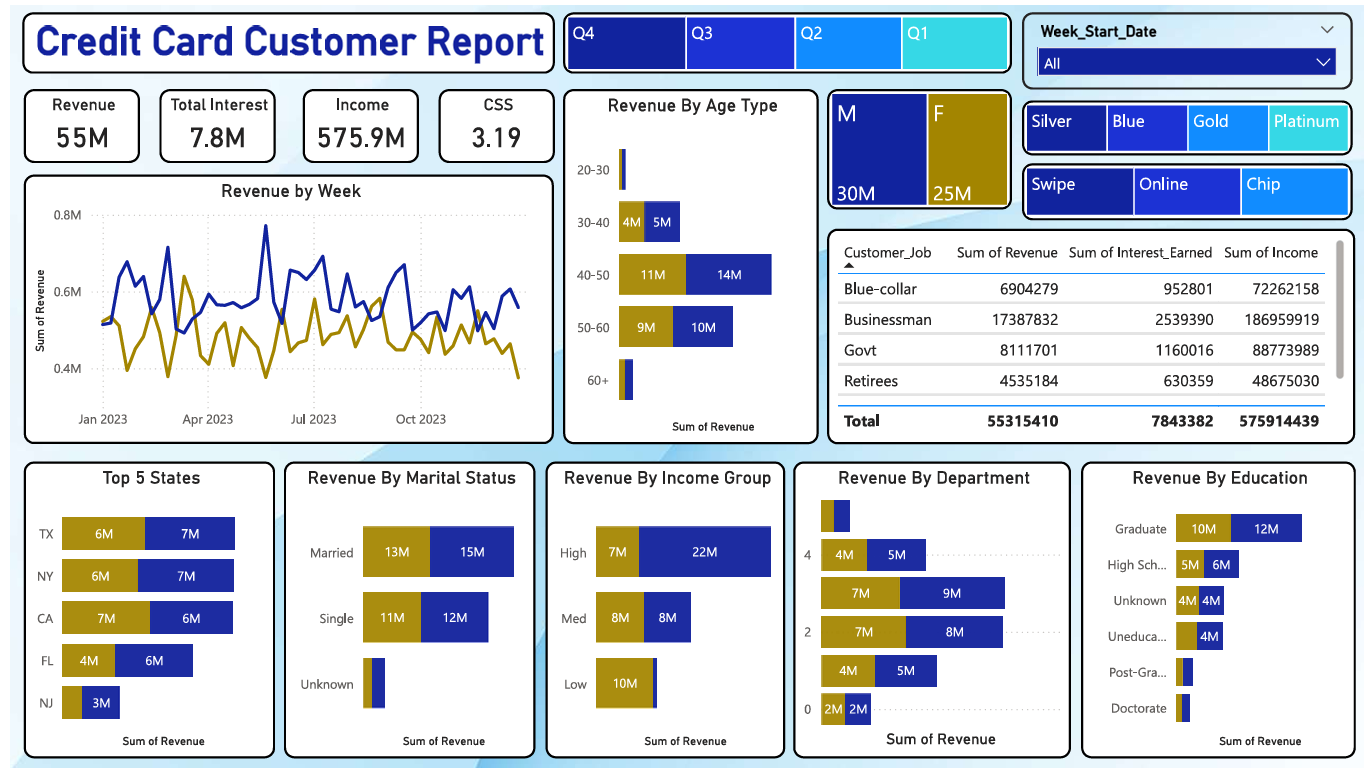

The page's visual inventory and layout, read from the dashboard file:
{"tool":"powerbi","page":{"name":"CC Customer","canvas":[1280,720],"ordinal":2},"visuals":[{"type":"barChart","title":"Revenue By Expeenditure Type","fields":{"Y":["Sum(ccdb credit_card.Revenue)"],"Category":["ccdb customer.IncomeGroup"],"Series":["ccdb customer.Gender"]},"box":[506,431,227.4,281],"z":0},{"type":"tableEx","fields":{"Values":["ccdb customer.Customer_Job","Sum(ccdb credit_card.Revenue)","Sum(ccdb credit_card.Interest_Earned)","Sum(ccdb customer.Income)"]},"box":[845.2,210.7,427.4,211.9],"z":1000},{"type":"card","title":"Revenue ","fields":{"Values":["Sum(ccdb credit_card.Revenue)"]},"box":[11.9,78.6,110,70.2],"z":2000},{"type":"card","title":"Total Interest","fields":{"Values":["Sum(ccdb credit_card.Interest_Earned)"]},"box":[140.5,78.6,109.5,70.2],"z":3000},{"type":"card","title":"Income","fields":{"Values":["Sum(ccdb customer.Income)"]},"box":[276.2,78.6,109.5,70.2],"z":4000},{"type":"card","title":"CSS","fields":{"Values":["Avg(ccdb customer.Cust_Satisfaction_Score)"]},"box":[404.8,78.6,109.5,70.2],"z":5000},{"type":"slicer","fields":{"Values":["ccdb credit_card.Week_Start_Date"]},"box":[1022.6,6,247.6,77.4],"z":6000},{"type":"treemap","fields":{"Group":["ccdb credit_card.Qtr"],"Values":["Avg(ccdb credit_card.Client_Num)"]},"box":[532.1,6,481,58.3],"z":7000},{"type":"treemap","fields":{"Group":["ccdb credit_card.Card_Category"],"Values":["Avg(ccdb credit_card.Client_Num)"]},"box":[1022.6,96.4,247.6,45.2],"z":8000},{"type":"textbox","title":"Credit  Card     Customer Report","box":[10.7,6,503.6,58.3],"z":9000},{"type":"lineChart","title":"Revenue by Week","fields":{"Y":["Sum(ccdb credit_card.Revenue)"],"Series":["ccdb customer.Gender"],"Category":["ccdb credit_card.Week_Start_Date.Variation.Date Hierarchy.Year","ccdb credit_card.Week_Start_Date.Variation.Date Hierarchy.Month","ccdb credit_card.Week_Start_Date.Variation.Date Hierarchy.Day"]},"box":[11.9,159.5,502.4,231],"z":10000},{"type":"treemap","fields":{"Group":["ccdb customer.Gender"],"Values":["Sum(ccdb credit_card.Revenue)"]},"box":[858.3,78.6,154.8,81],"z":11000},{"type":"barChart","title":"Revenue By Expeenditure Type","fields":{"Y":["Sum(ccdb credit_card.Revenue)"],"Category":["ccdb customer.AgeGroup"],"Series":["ccdb customer.Gender"]},"box":[522.6,78.6,314.3,311.9],"z":12000},{"type":"barChart","title":"Revenue By Expeenditure Type","fields":{"Y":["Sum(ccdb credit_card.Revenue)"],"Category":["ccdb customer.Education_Level"],"Series":["ccdb customer.Gender"]},"box":[1013.1,431,259.5,281],"z":13000},{"type":"barChart","title":"Revenue By Expeenditure Type","fields":{"Y":["Sum(ccdb credit_card.Revenue)"],"Category":["ccdb customer.Dependent_Count"],"Series":["ccdb customer.Gender"]},"box":[752.4,431,247.6,281],"z":14000},{"type":"barChart","title":"Revenue By Expeenditure Type","fields":{"Y":["Sum(ccdb credit_card.Revenue)"],"Category":["ccdb customer.state_cd"],"Series":["ccdb customer.Gender"]},"box":[11.9,431,238.1,281],"z":15000},{"type":"barChart","title":"Revenue By Expeenditure Type","fields":{"Y":["Sum(ccdb credit_card.Revenue)"],"Category":["ccdb customer.Marital_Status"],"Series":["ccdb customer.Gender"]},"box":[258.3,431,238.1,281],"z":16000},{"type":"treemap","fields":{"Group":["ccdb credit_card.Use Chip"],"Values":["Avg(ccdb credit_card.Client_Num)"]},"box":[1022.6,148.8,247.6,48.8],"z":17000}]}

Visuals, with their boxes in screenshot pixels (x1, y1, x2, y2), scaled from the page's 1280x720 canvas onto the 1367x771 screenshot:
"Revenue By Expeenditure Type" barChart: pyautogui.locateOnScreen(540, 462, 783, 762)
tableEx - ccdb customer.Customer_Job x Sum(ccdb credit_card.Revenue): pyautogui.locateOnScreen(903, 226, 1359, 453)
"Revenue " card: pyautogui.locateOnScreen(13, 84, 130, 159)
"Total Interest" card: pyautogui.locateOnScreen(150, 84, 267, 159)
"Income" card: pyautogui.locateOnScreen(295, 84, 412, 159)
"CSS" card: pyautogui.locateOnScreen(432, 84, 549, 159)
slicer - ccdb credit_card.Week_Start_Date: pyautogui.locateOnScreen(1092, 6, 1357, 89)
treemap - ccdb credit_card.Qtr x Avg(ccdb credit_card.Client_Num): pyautogui.locateOnScreen(568, 6, 1082, 69)
treemap - ccdb credit_card.Card_Category x Avg(ccdb credit_card.Client_Num): pyautogui.locateOnScreen(1092, 103, 1357, 152)
"Credit  Card     Customer Report" textbox: pyautogui.locateOnScreen(11, 6, 549, 69)
"Revenue by Week" lineChart: pyautogui.locateOnScreen(13, 171, 549, 418)
treemap - ccdb customer.Gender x Sum(ccdb credit_card.Revenue): pyautogui.locateOnScreen(917, 84, 1082, 171)
"Revenue By Expeenditure Type" barChart: pyautogui.locateOnScreen(558, 84, 894, 418)
"Revenue By Expeenditure Type" barChart: pyautogui.locateOnScreen(1082, 462, 1359, 762)
"Revenue By Expeenditure Type" barChart: pyautogui.locateOnScreen(804, 462, 1068, 762)
"Revenue By Expeenditure Type" barChart: pyautogui.locateOnScreen(13, 462, 267, 762)
"Revenue By Expeenditure Type" barChart: pyautogui.locateOnScreen(276, 462, 530, 762)
treemap - ccdb credit_card.Use Chip x Avg(ccdb credit_card.Client_Num): pyautogui.locateOnScreen(1092, 159, 1357, 212)
